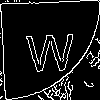W: (25, 24, 75, 73)
